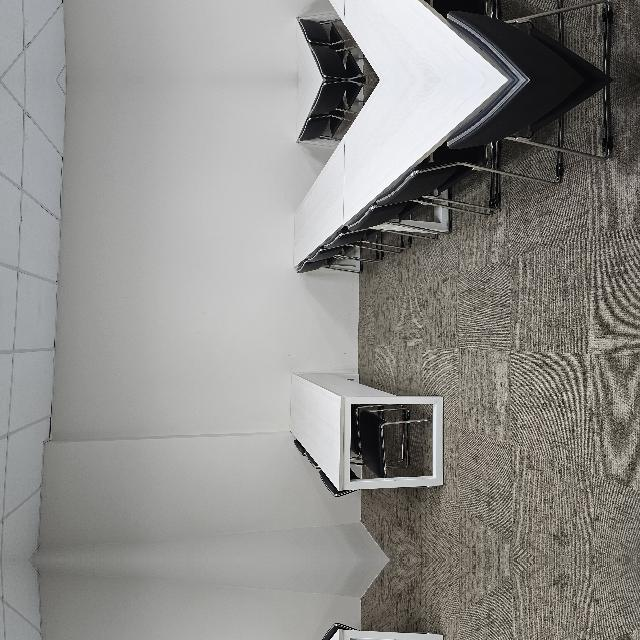obstacle: (350, 414, 480, 640), (350, 440, 480, 640), (66, 368, 190, 524), (66, 595, 189, 640)
